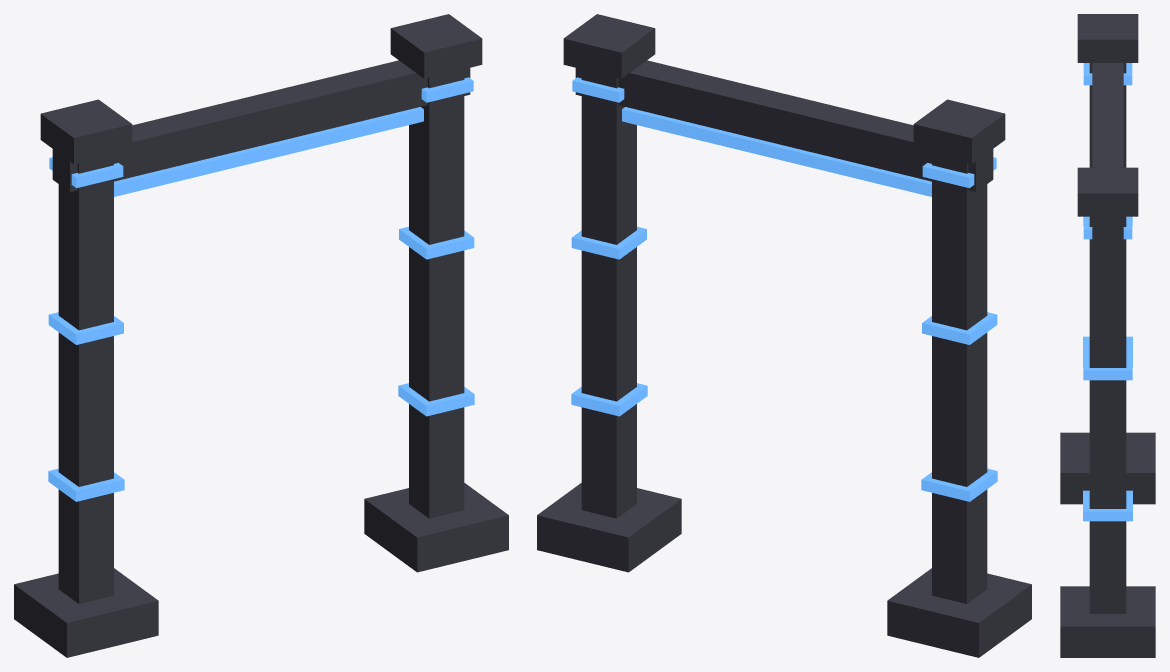
Rendered from runtime.glb.
3 views of the same model, side by side, from view 1: azimuth 30°, elevation 25°; view 2: azimuth 150°, elevation 25°; view 3: azimuth 270°, elevation 25° (orthographic). The views are drawn at different scales.
Visible parts, largest first — view 1: neon_pylon_post_nocol, neon_pylon_band_blue_noshadow_nocol; view 2: neon_pylon_post_nocol, neon_pylon_band_blue_noshadow_nocol; view 3: neon_pylon_post_nocol, neon_pylon_band_blue_noshadow_nocol.
Part boxes in pixels (x1=…): neon_pylon_post_nocol: x1=14, y1=14, x2=508, y2=657; neon_pylon_band_blue_noshadow_nocol: x1=48, y1=77, x2=474, y2=501; neon_pylon_post_nocol: x1=537, y1=14, x2=1031, y2=657; neon_pylon_band_blue_noshadow_nocol: x1=571, y1=77, x2=997, y2=501; neon_pylon_post_nocol: x1=1060, y1=14, x2=1155, y2=657; neon_pylon_band_blue_noshadow_nocol: x1=1083, y1=63, x2=1132, y2=521.
Bounding box in the file's own units: 5.3 × 5.83 × 1.1.
